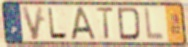A: (70, 6, 97, 41)
D: (117, 6, 142, 42)
L: (46, 6, 69, 41), (144, 6, 166, 42)
T: (94, 6, 115, 41)
V: (20, 5, 45, 42)
